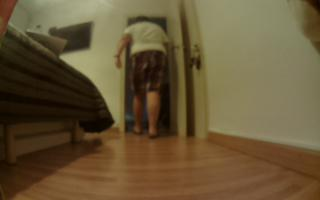person: (113, 9, 171, 140)
